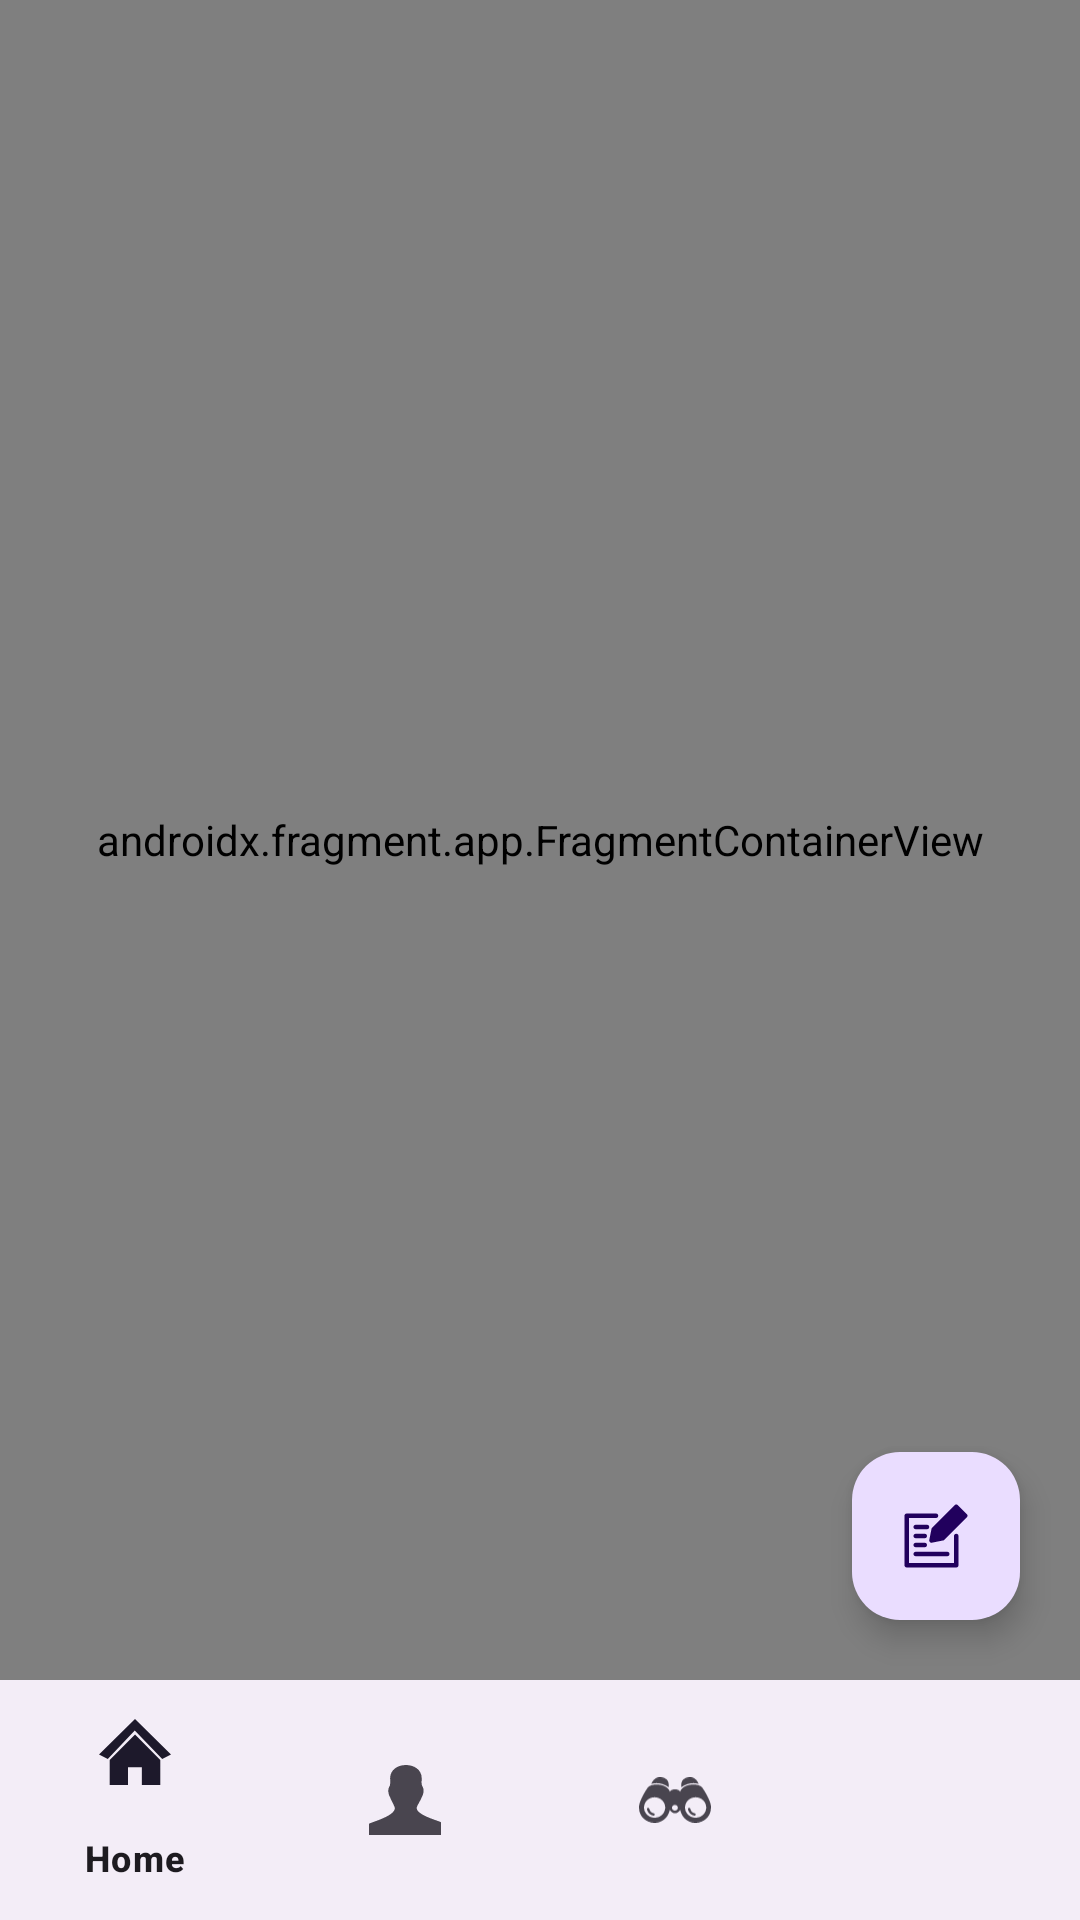

Where to tap for icons on this 1080 × 1920 app screen, as (x,y):
Publish a new Post: (936,1536)
